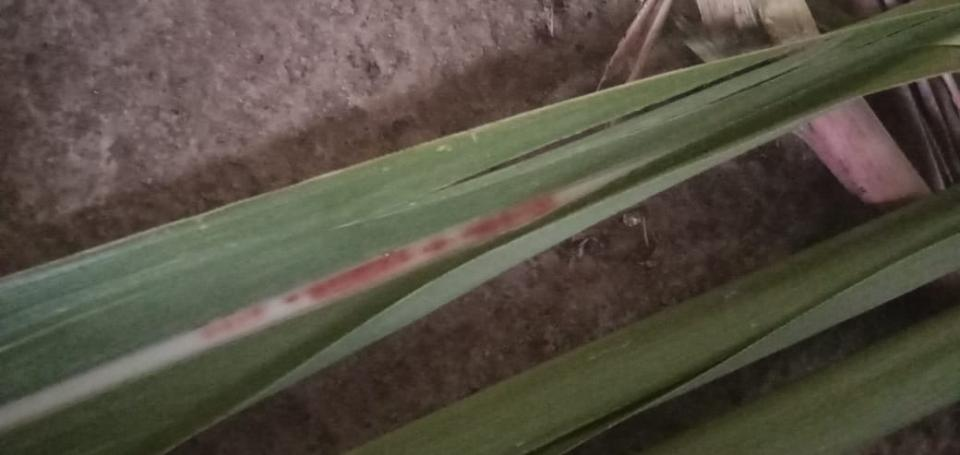RedRot: (198, 192, 562, 351)
